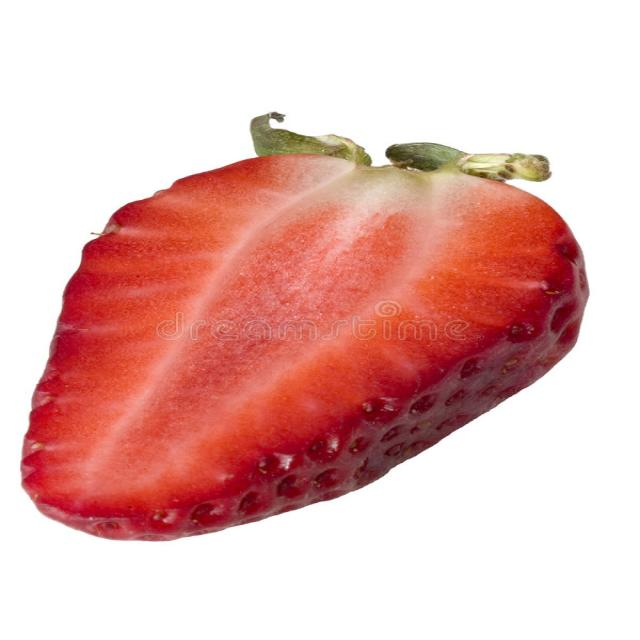strawberry: (34, 92, 605, 592)
